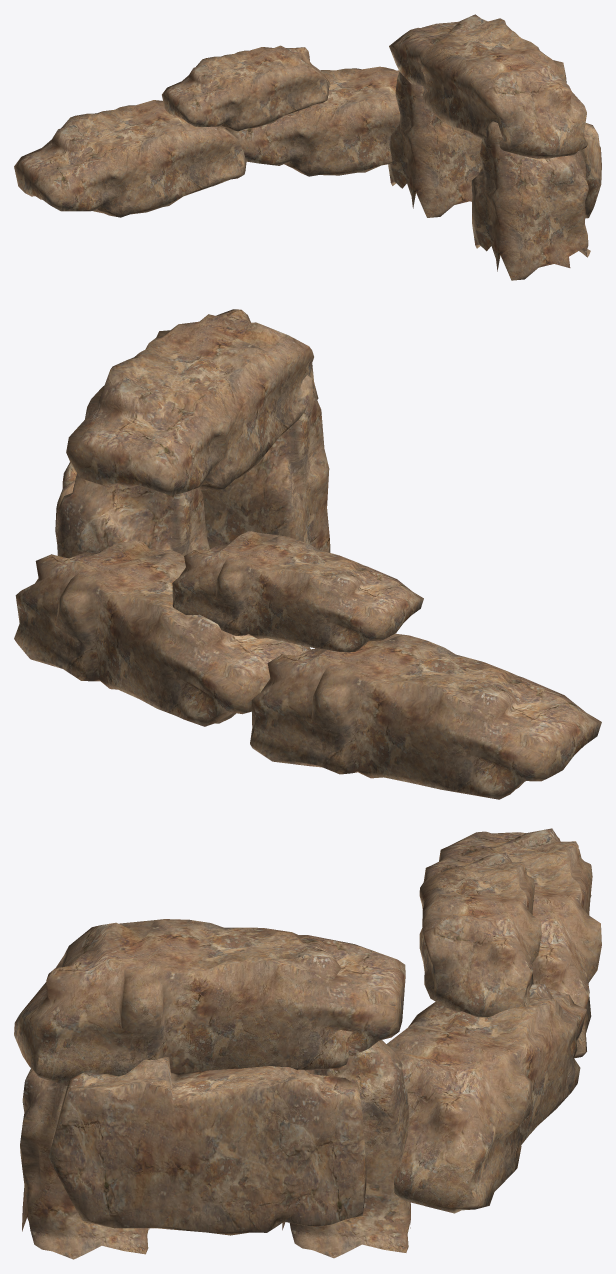
Rendered from Rocks.obj.
3 views of the same model, one above another, from view 1: azimuth 30°, elevation 25°; view 2: azimuth 150°, elevation 25°; view 3: azimuth 270°, elevation 25° (orthographic). The views are drawn at different scales.
Parts seen in each view (by area): view 1: Rock_17:Rock_9 group7, Rock_18:Rock_9 pasted__group7 group8, Rock_20:Rock_9 pasted__pasted__pasted__group7 pasted__pasted__gr, Rock_10:Rock_9 group, Rock_22:Rock_9 group12, Rock_19:Rock_9 pasted__pasted__group7 pasted__group8 group9, Rock_21:Rock_9 pasted__pasted__group7 pasted__group8 group11; view 2: Rock_17:Rock_9 group7, Rock_18:Rock_9 pasted__group7 group8, Rock_10:Rock_9 group, Rock_22:Rock_9 group12, Rock_20:Rock_9 pasted__pasted__pasted__group7 pasted__pasted__gr, Rock_19:Rock_9 pasted__pasted__group7 pasted__group8 group9; view 3: Rock_18:Rock_9 pasted__group7 group8, Rock_21:Rock_9 pasted__pasted__group7 pasted__group8 group11, Rock_10:Rock_9 group, Rock_22:Rock_9 group12, Rock_17:Rock_9 group7, Rock_19:Rock_9 pasted__pasted__group7 pasted__group8 group9, Rock_20:Rock_9 pasted__pasted__pasted__group7 pasted__pasted__gr.
Part boxes in pixels (bbox=[...]): Rock_17:Rock_9 group7: bbox=[14, 100, 246, 217]; Rock_18:Rock_9 pasted__group7 group8: bbox=[389, 14, 587, 158]; Rock_20:Rock_9 pasted__pasted__pasted__group7 pasted__pasted__gr: bbox=[471, 121, 590, 280]; Rock_10:Rock_9 group: bbox=[225, 66, 400, 176]; Rock_22:Rock_9 group12: bbox=[162, 45, 329, 131]; Rock_19:Rock_9 pasted__pasted__group7 pasted__group8 group9: bbox=[388, 62, 482, 217]; Rock_21:Rock_9 pasted__pasted__group7 pasted__group8 group11: bbox=[580, 123, 601, 218]; Rock_17:Rock_9 group7: bbox=[250, 633, 601, 799]; Rock_18:Rock_9 pasted__group7 group8: bbox=[66, 309, 318, 495]; Rock_10:Rock_9 group: bbox=[14, 540, 310, 726]; Rock_22:Rock_9 group12: bbox=[172, 531, 423, 652]; Rock_20:Rock_9 pasted__pasted__pasted__group7 pasted__pasted__gr: bbox=[201, 375, 330, 552]; Rock_19:Rock_9 pasted__pasted__group7 pasted__group8 group9: bbox=[56, 465, 209, 558]; Rock_18:Rock_9 pasted__group7 group8: bbox=[14, 919, 405, 1085]; Rock_21:Rock_9 pasted__pasted__group7 pasted__group8 group11: bbox=[48, 1056, 366, 1235]; Rock_10:Rock_9 group: bbox=[386, 984, 586, 1213]; Rock_22:Rock_9 group12: bbox=[419, 852, 541, 1017]; Rock_17:Rock_9 group7: bbox=[439, 828, 601, 1058]; Rock_19:Rock_9 pasted__pasted__group7 pasted__group8 group9: bbox=[282, 1030, 410, 1258]; Rock_20:Rock_9 pasted__pasted__pasted__group7 pasted__pasted__gr: bbox=[20, 1068, 149, 1259].
Bounding box in the file's own units: 22.76 × 9.39 × 17.49.
2 materials, 2 textured.
